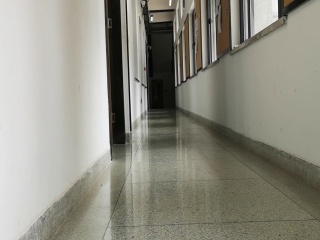room: (99, 2, 128, 157)
